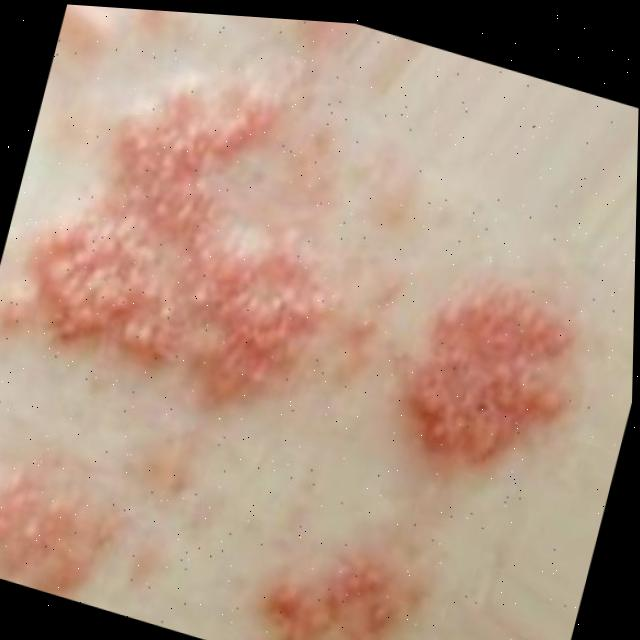Shingles: (0, 0, 398, 435), (376, 251, 592, 493), (0, 448, 146, 614), (247, 528, 433, 640)
